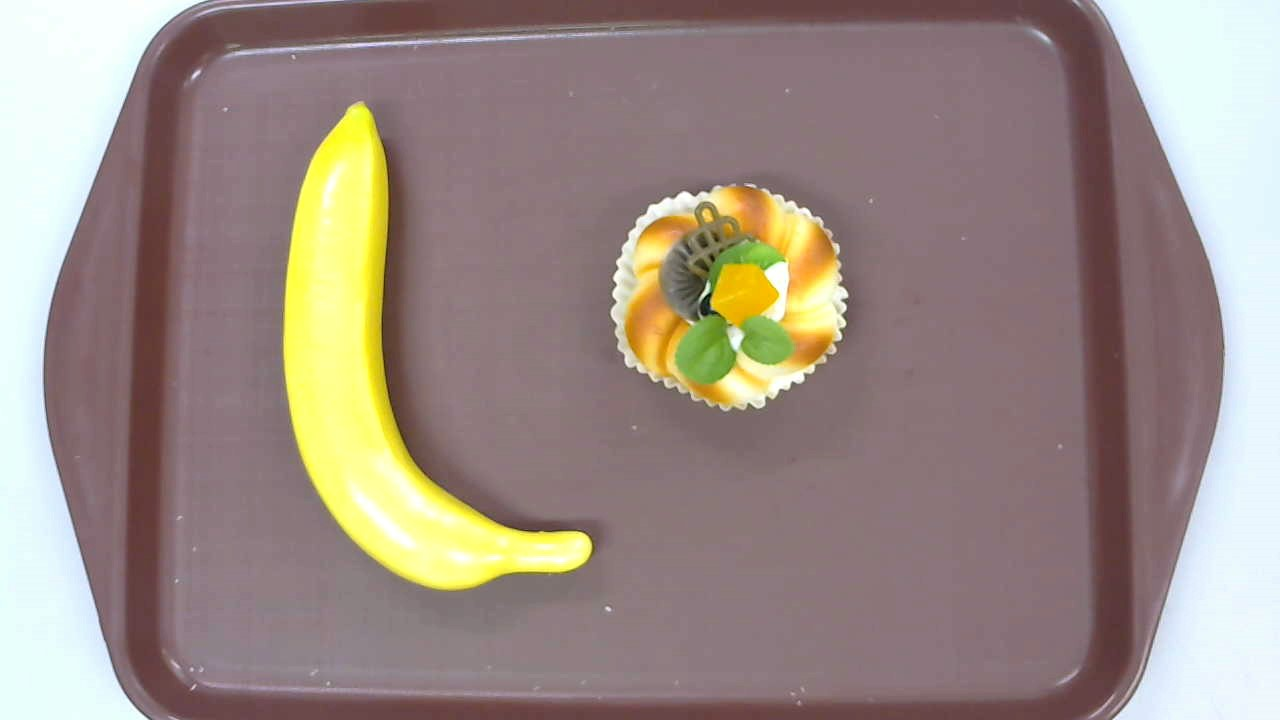banana: (281, 99, 593, 591)
fruit tart: (609, 182, 848, 413)
